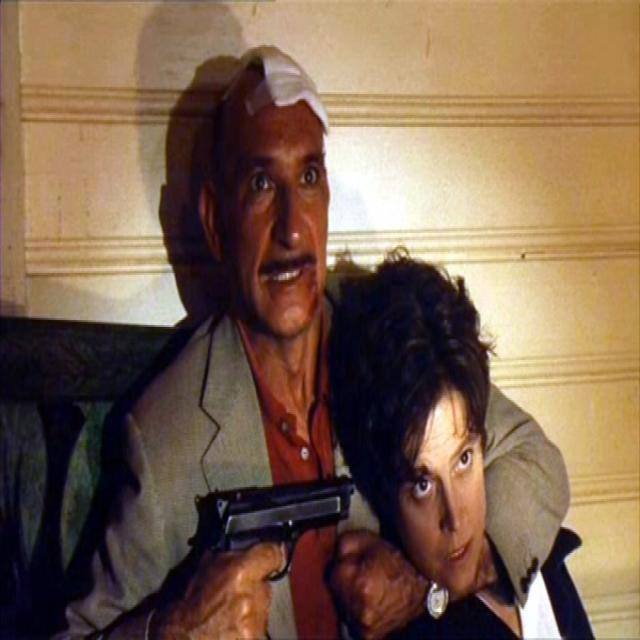weapons: (179, 443, 365, 637)
